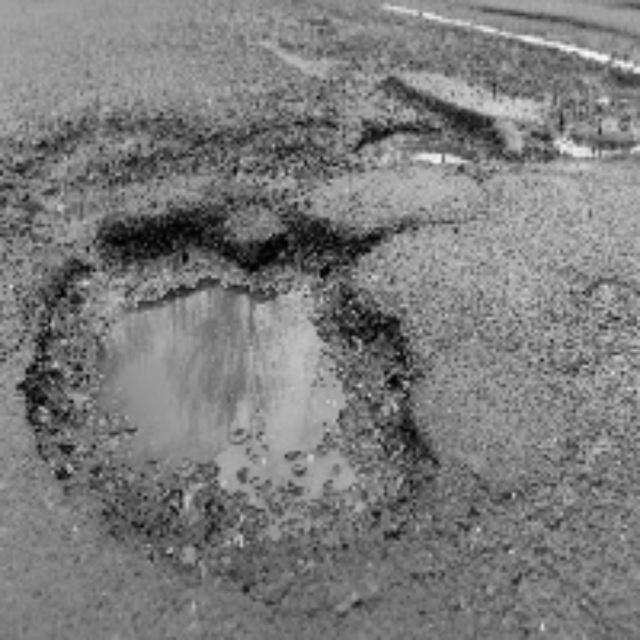Pothole: (17, 226, 416, 560), (364, 92, 514, 198)
